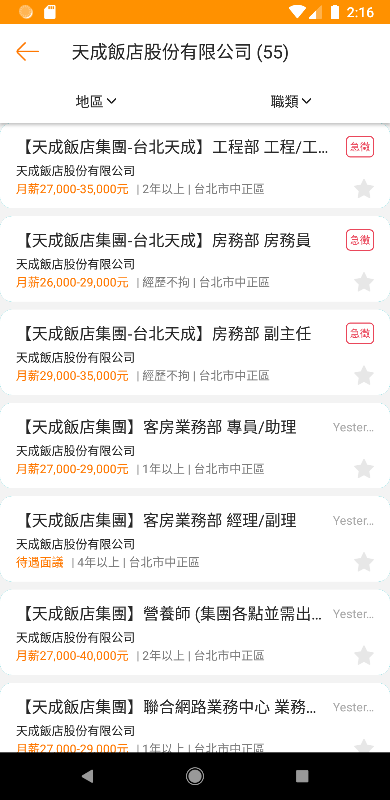button: (262, 85, 317, 118), (65, 90, 126, 113), (342, 317, 380, 350), (11, 36, 48, 69), (342, 131, 378, 164), (342, 223, 379, 254), (348, 454, 380, 486), (348, 640, 380, 672), (348, 545, 379, 578), (347, 269, 379, 299), (348, 362, 380, 391), (349, 174, 376, 205)
